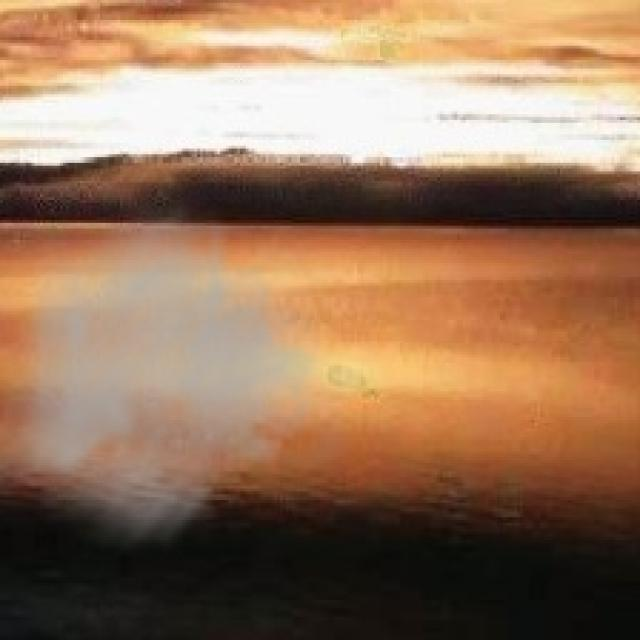Smoke: (0, 191, 357, 563)
